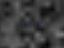five: (25, 20, 31, 28), (39, 19, 45, 27)
four: (18, 20, 24, 28)
one: (32, 19, 38, 27)
